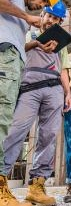boots: (0, 175, 31, 206), (24, 177, 54, 206)
hard-hat: (31, 0, 60, 14)
